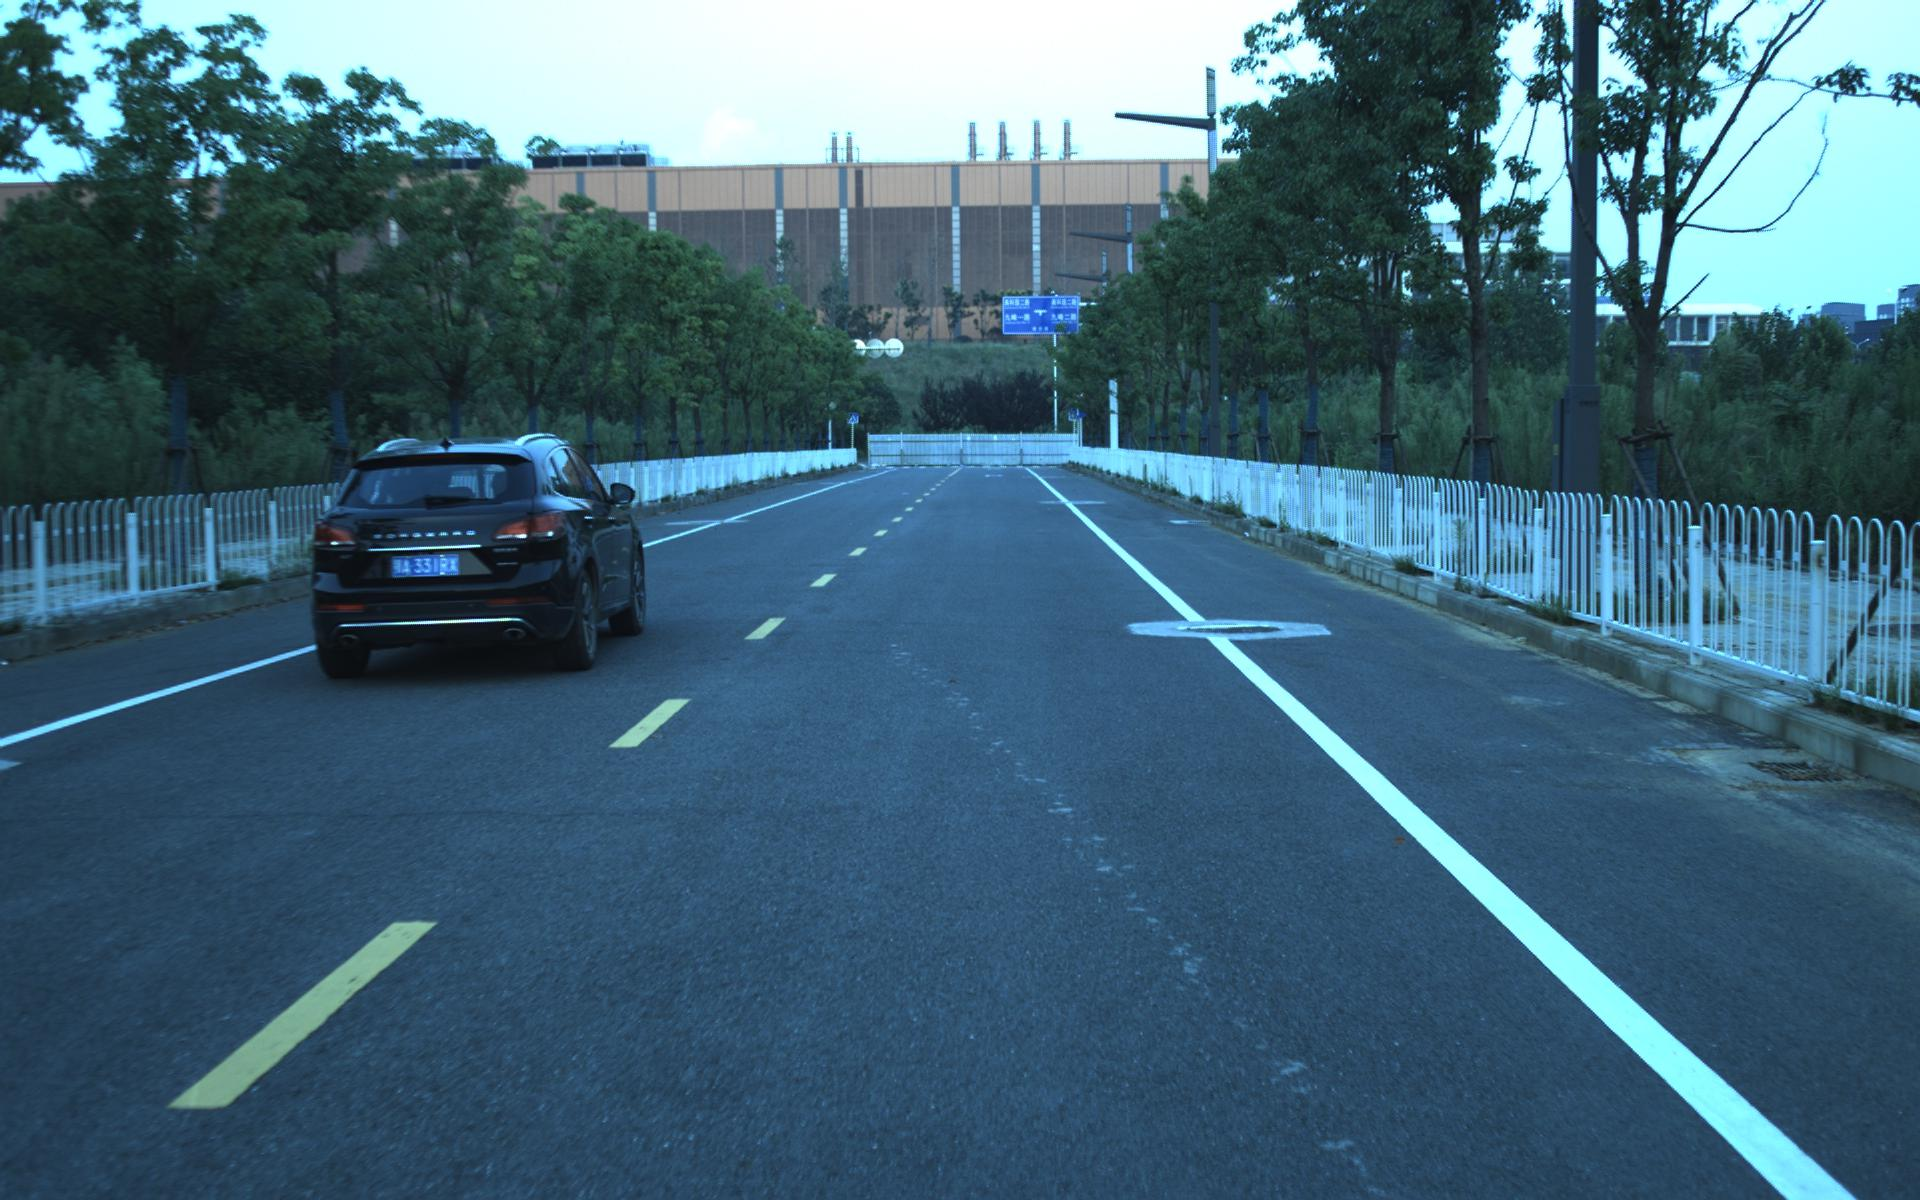Car: (294, 424, 654, 686)
